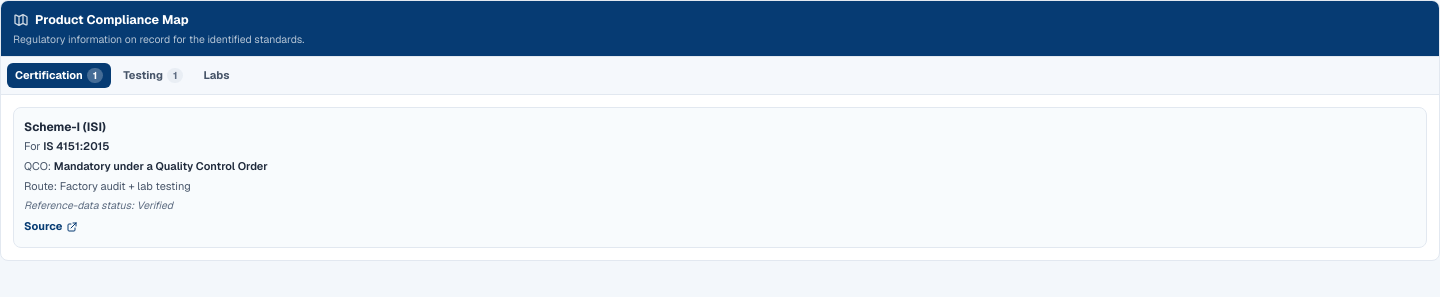
ProductComplianceMap › a failed directory load says so
This screenshot has width=1440, height=297.
What coordinates should you click on to do the following:
click the tab "Labs"
I would click on:
 (216, 75)
Its box is [195,63,238,88].
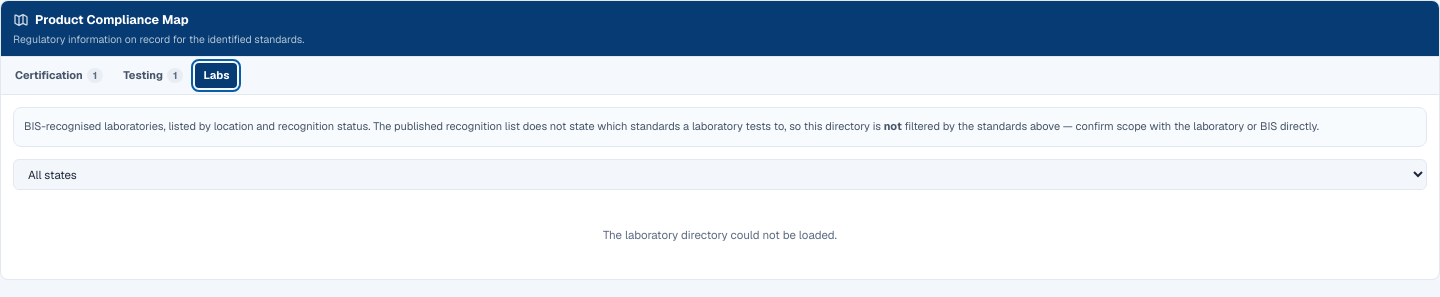
Now the text "The laboratory directory could not be loaded." is shown, box [603,227,837,242]
